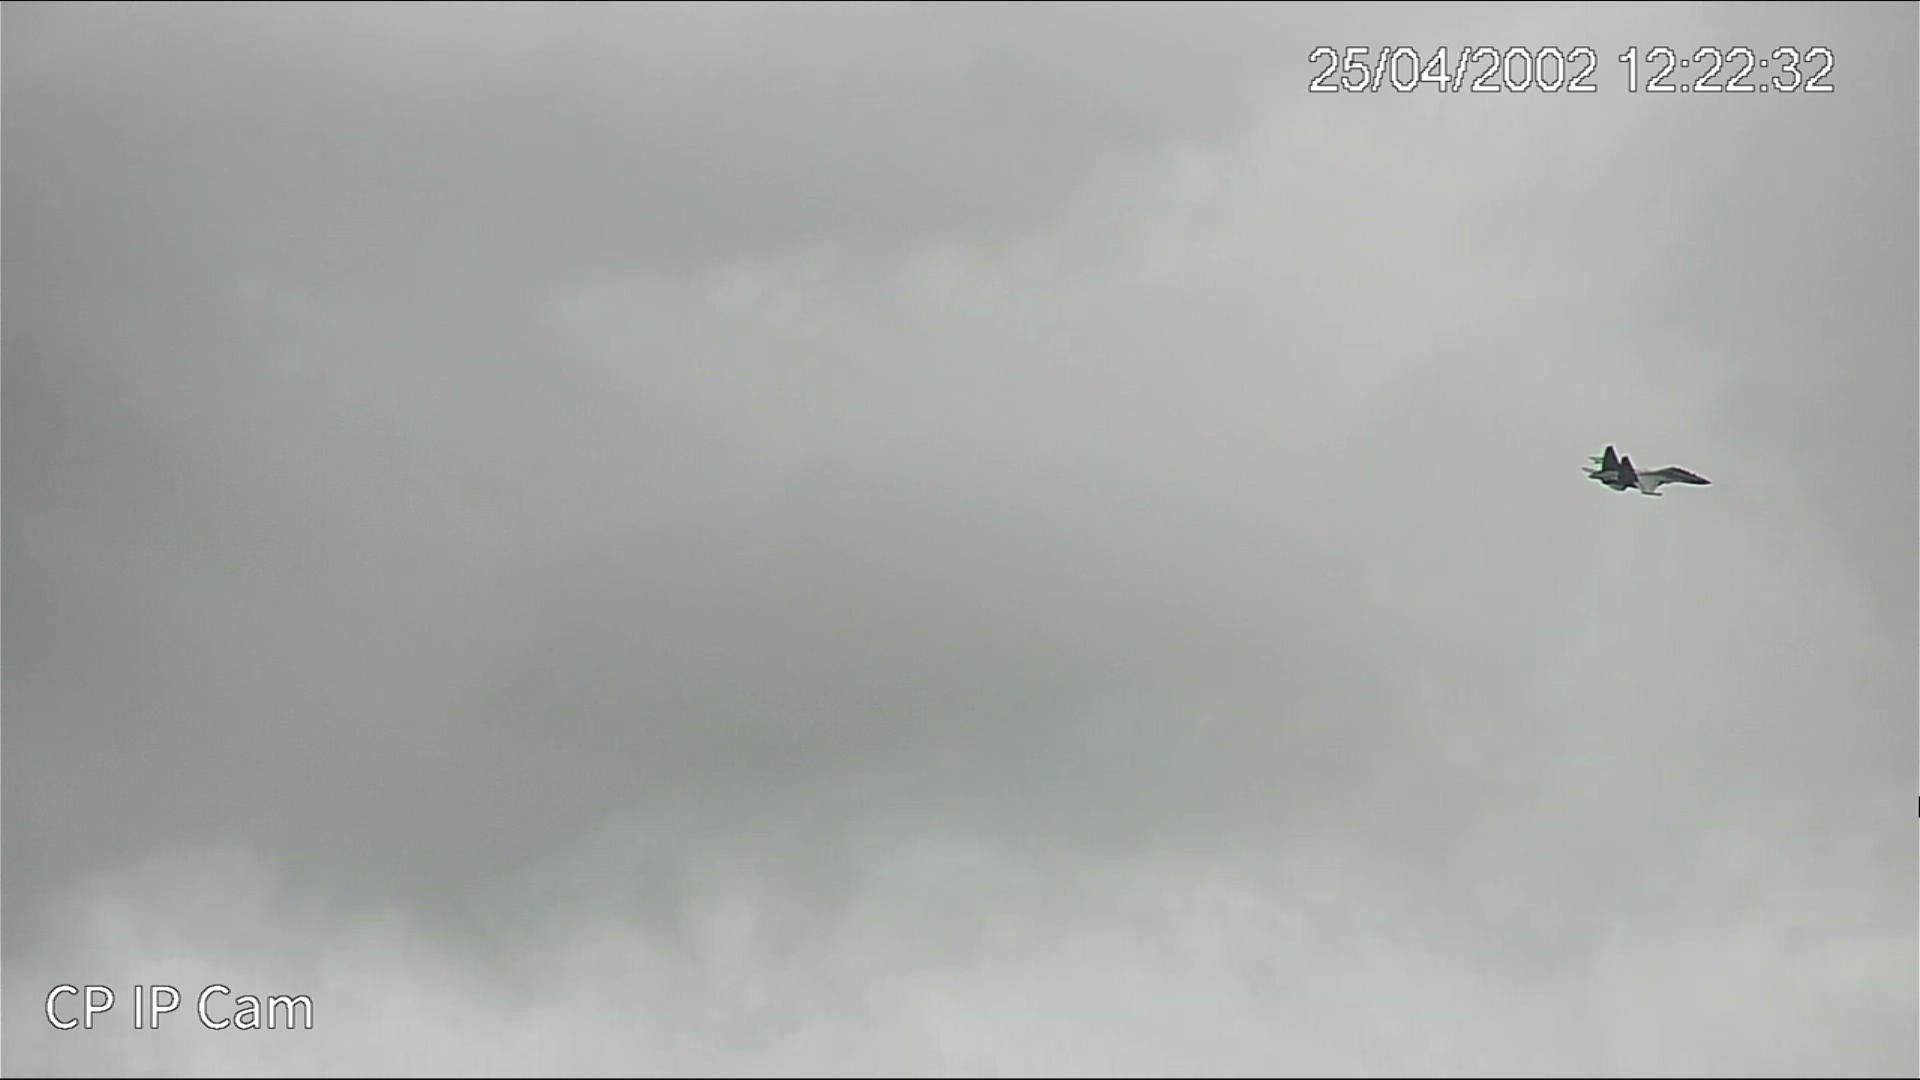SU_30: (1580, 444, 1725, 502)
